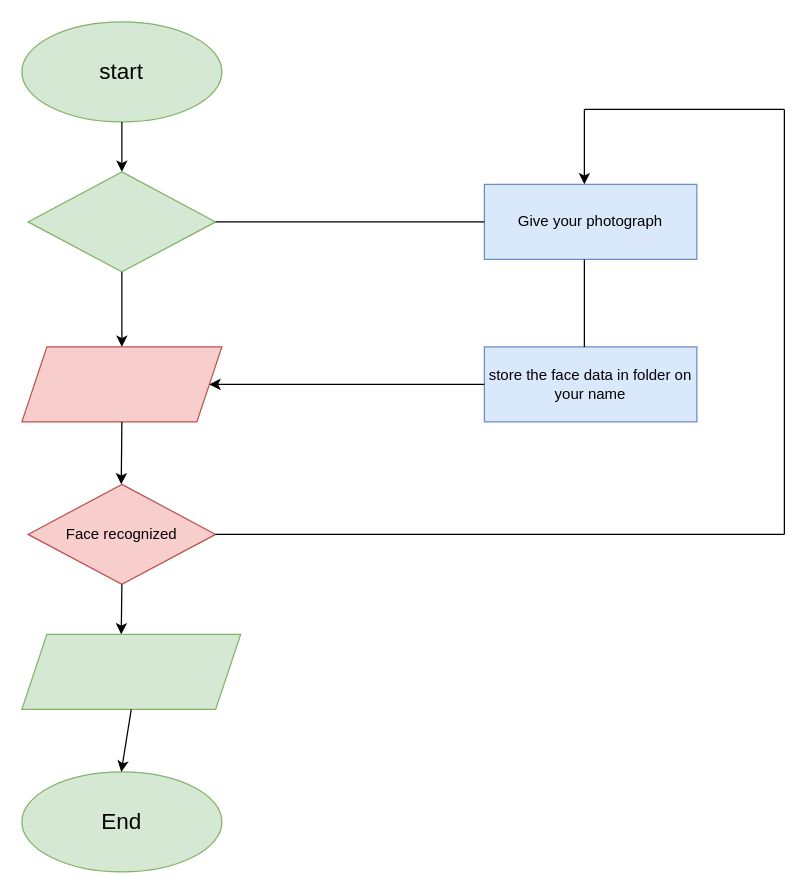
This 808x894 diagram has some shape labels left out. Each missing label, with the centre of its shape:
"New user" goes at pixel 121 221.
"Recognize the face" goes at pixel 121 384.
"stored in csv file with regristration number & date time of entry" goes at pixel 131 671.
